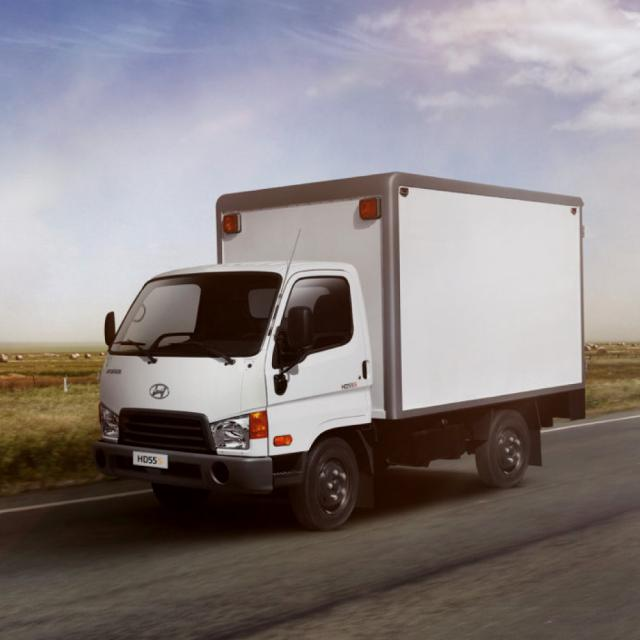TRUCK: (99, 174, 585, 537)
